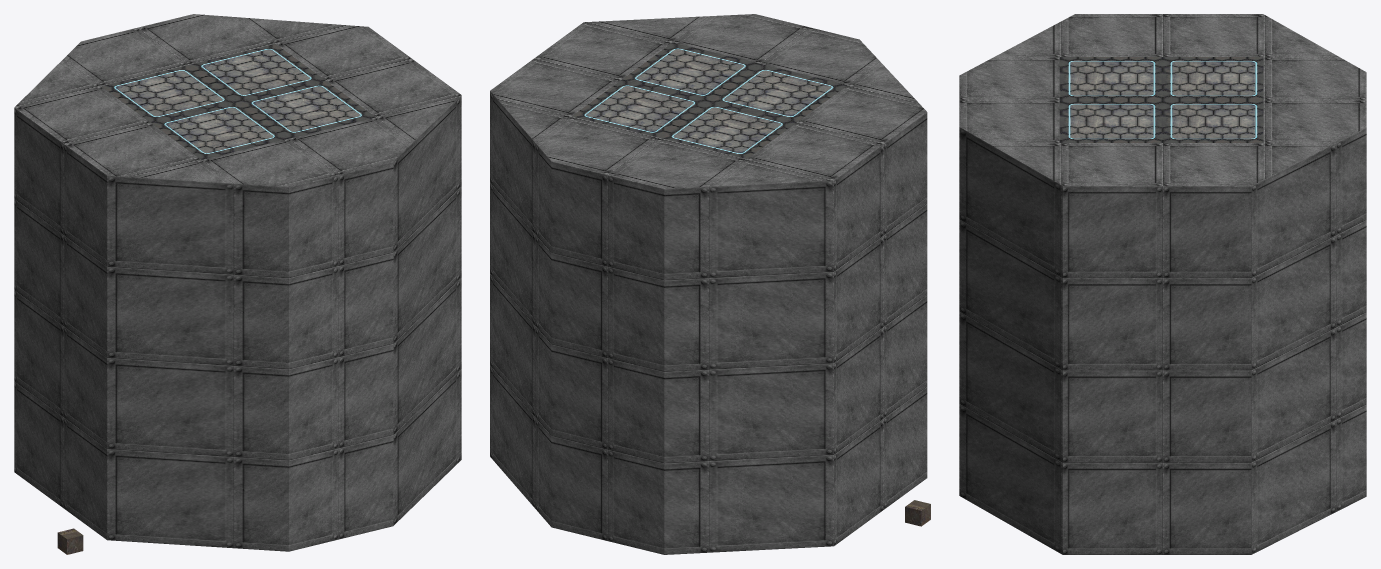
File: center_column.fbx
3 renders of one model, left to right at view 1: azimuth 30°, elevation 25°; view 2: azimuth 150°, elevation 25°; view 3: azimuth 270°, elevation 25°, orthographic.
Parts seen in each view (by area): view 1: Object; view 2: Object; view 3: Object.
Boxes of the visible parts, x1,y1,x2,y2 form: Object: (14, 14, 461, 554); Object: (490, 14, 930, 554); Object: (959, 14, 1366, 554).
Bounding box in the file's own units: 6800 × 6800 × 6400.
